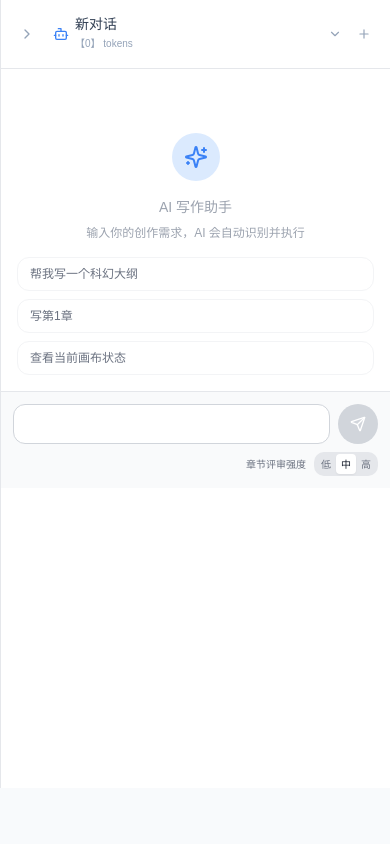
it: AgentChat context quote › shows persisted context usage in the desktop session list
What coordinates should you click on to do the following:
click the button "新对话 【0】 tokens"
I would click on:
 (96, 24)
Its box is [45, 8, 350, 60].
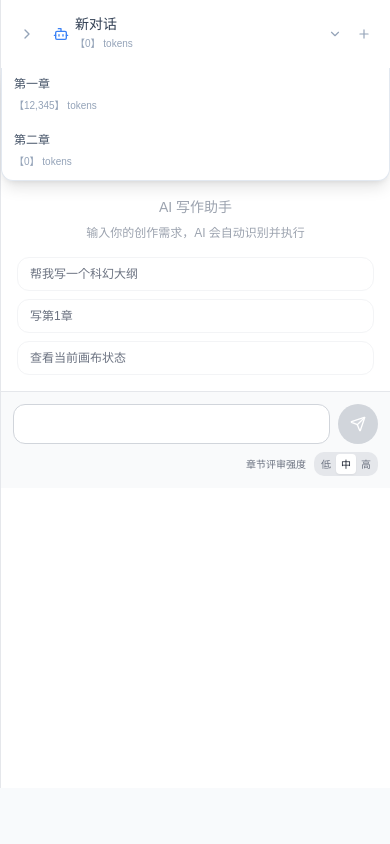
expect the 1st text "【0】 tokens" is shown: met, box [75, 38, 133, 49]
expect the text "【12,345】 tokens" is shown: met, box [14, 100, 97, 111]
